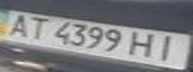3: (66, 21, 87, 48)
4: (48, 19, 75, 46)
9: (103, 26, 127, 55), (84, 24, 106, 52)
A: (0, 11, 36, 38)
H: (127, 29, 163, 60)
I: (148, 34, 187, 63)
T: (21, 15, 54, 42)
